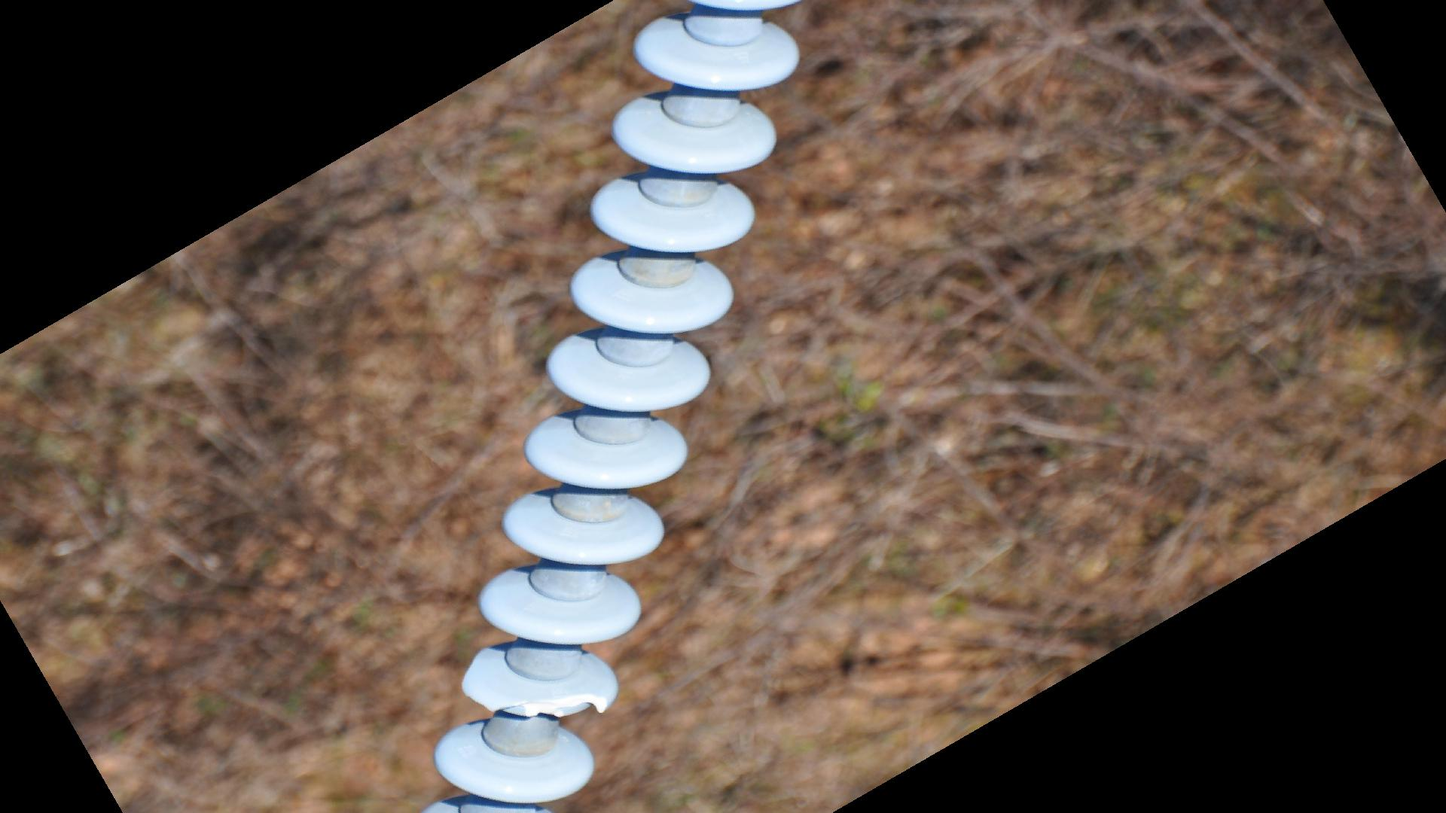insulator: (419, 1, 807, 813)
insulator_breakage: (486, 690, 612, 725)
